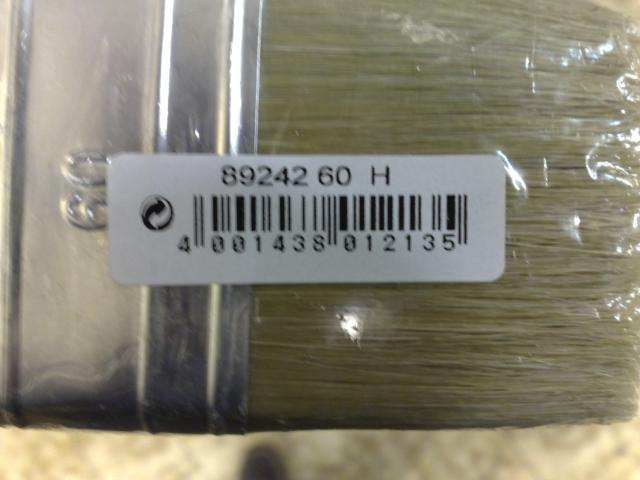Barcode: (169, 172, 479, 262)
